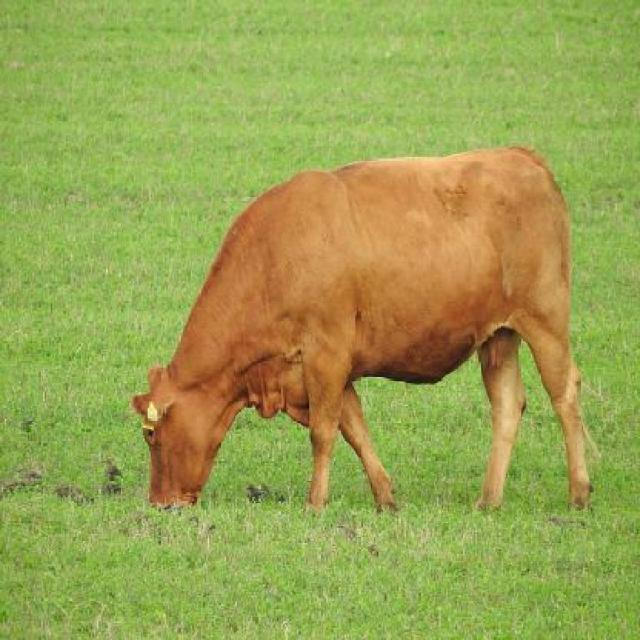Cow: (131, 142, 594, 520)
